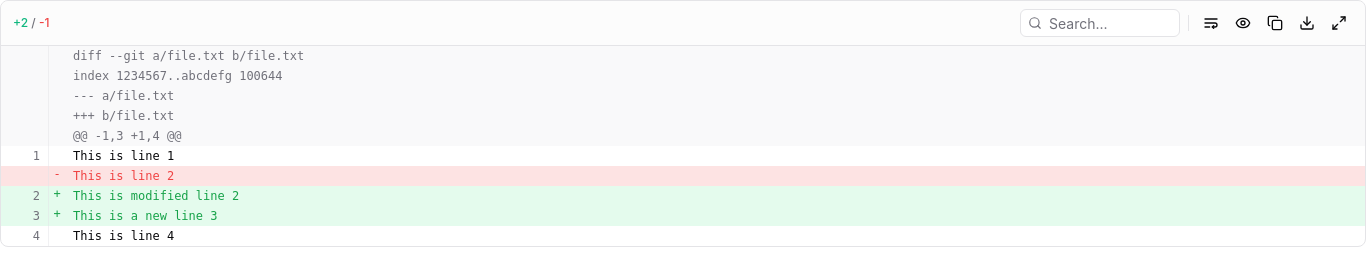
Scenario: DiffViewer › match navigation › should reset to first match when search query changes
Type "line" into the field with placeholder "Search...".
click(1100, 23); type("line")  # box [1020,9,1180,37]
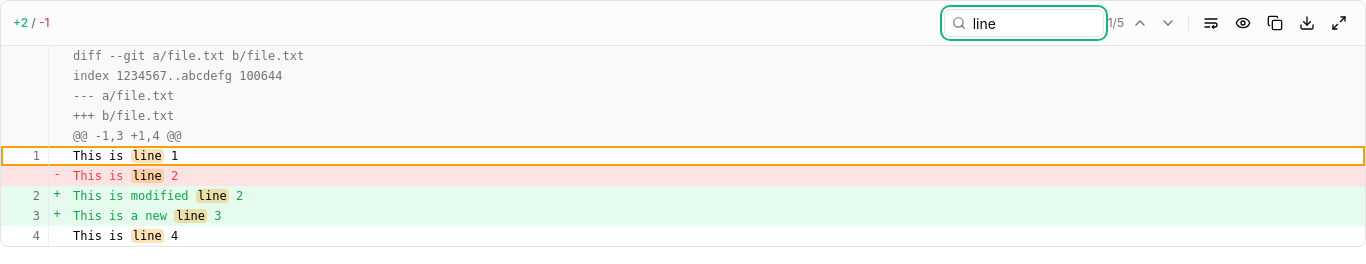
Clear the field with placeholder "Search..." at x=1024, y=23, box [944,9,1104,37]
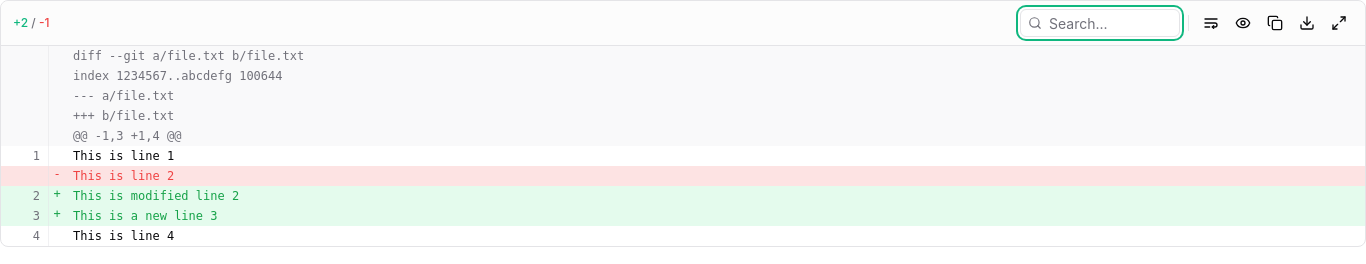
Type "This" into the field with placeholder "Search...".
click(1100, 23); type("This")  # box [1020,9,1180,37]
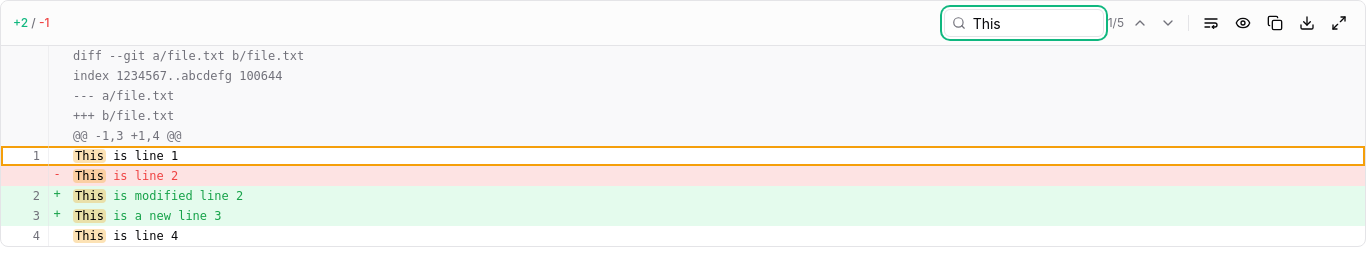
Expected: the text "1/5" is shown, [1108,15,1124,31]
